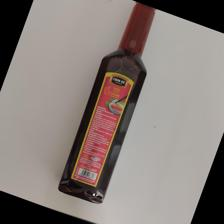Namngu: (59, 1, 159, 204)
